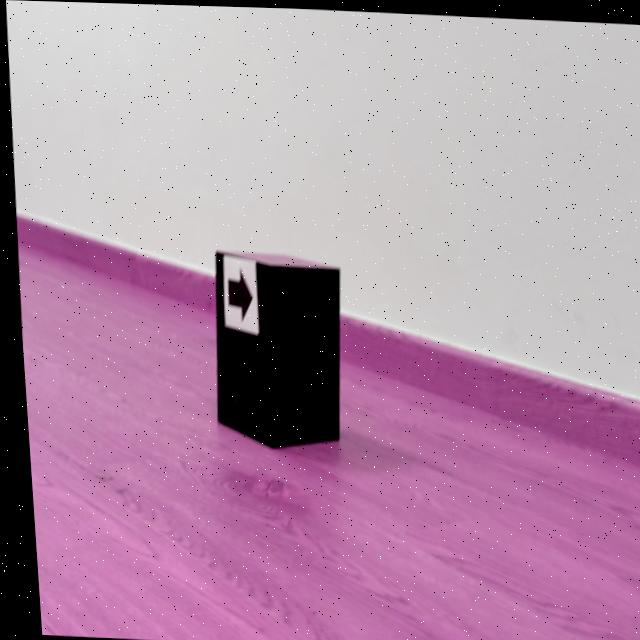RIGHT: (223, 267, 248, 318)
